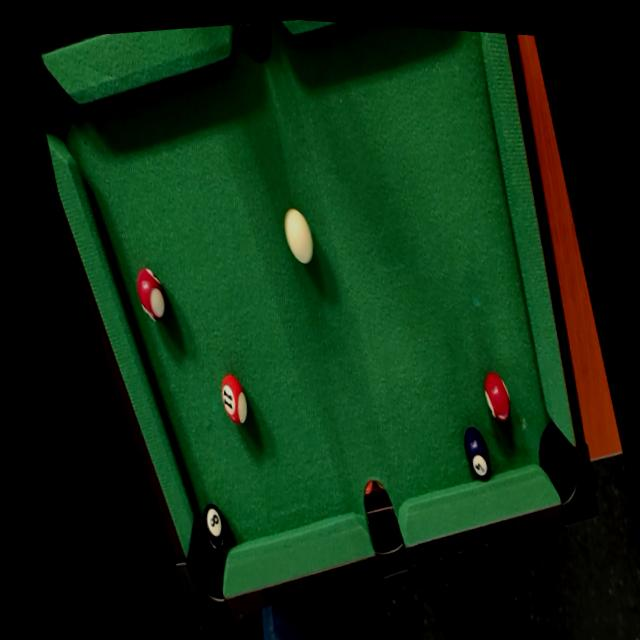cue ball: (273, 196, 321, 275)
other: (129, 255, 174, 328), (214, 363, 255, 431), (477, 365, 516, 424), (460, 423, 497, 484), (198, 498, 234, 560)
